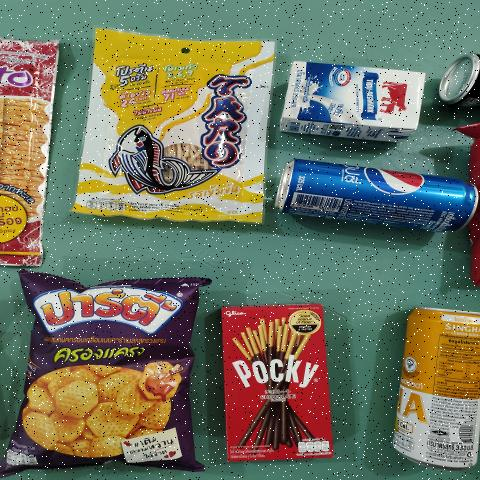party_purple: (29, 283, 187, 460)
pepsi_blue: (287, 158, 478, 242)
pokki: (218, 305, 337, 460)
singha_yellow: (395, 304, 480, 454)
taro_yellow: (95, 30, 266, 211)
thai_denmark: (288, 58, 426, 142)
